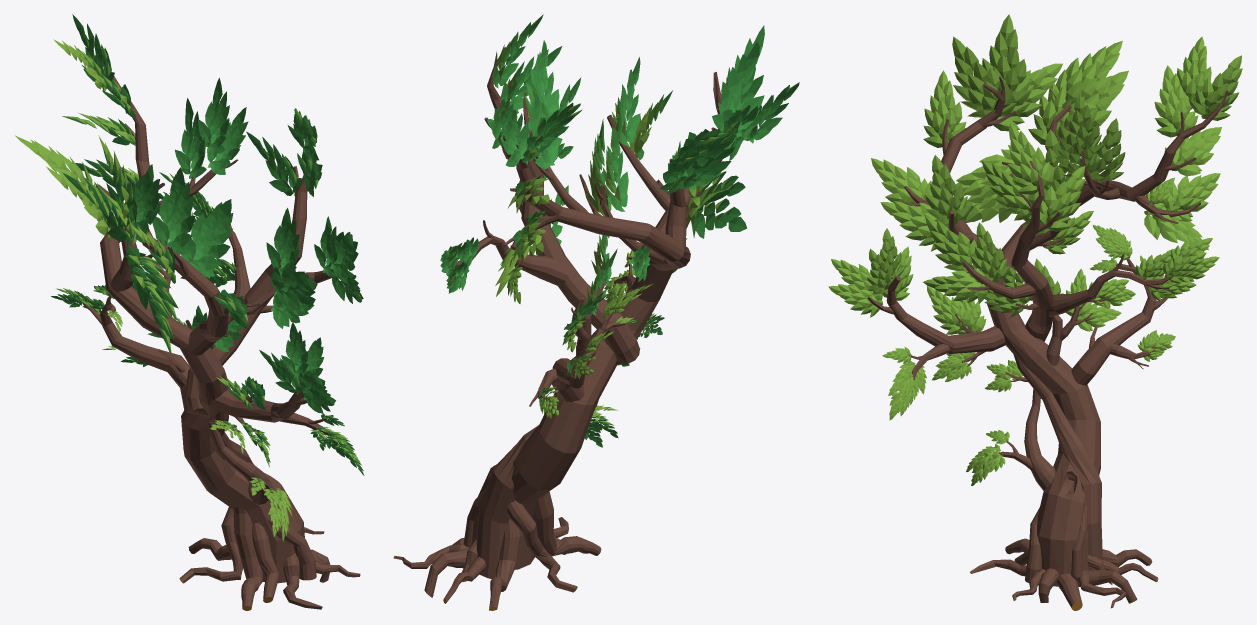
The model's file is modelDraco.gltf.
The picture shows the model from 3 angles, left to right: view 1: azimuth 30°, elevation 25°; view 2: azimuth 150°, elevation 25°; view 3: azimuth 270°, elevation 25°; orthographic projection. The views are drawn at different scales.
Visible parts, largest first — view 1: node_MeshObject1580686336-PolyPaper20, node_MeshObject-425964544-PolyPaper9, node_MeshObject718193664-PolyPaper9, node_MeshObject-2142201856-PolyPaper9, node_MeshObject146114560-PolyPaper9, node_MeshObject-524814336-PolyPaper9, node_MeshObject-998043648-PolyPaper9, node_MeshObject-1096893440-PolyPaper9, node_MeshObject1290272768-PolyPaper9, node_MeshObject-1570122752-PolyPaper9, node_MeshObject47264768-PolyPaper9; view 2: node_MeshObject1580686336-PolyPaper20, node_MeshObject146114560-PolyPaper9, node_MeshObject-425964544-PolyPaper9, node_MeshObject718193664-PolyPaper9, node_MeshObject-2142201856-PolyPaper9, node_MeshObject1290272768-PolyPaper9, node_MeshObject-524814336-PolyPaper9, node_MeshObject-1096893440-PolyPaper9, node_MeshObject47264768-PolyPaper9; view 3: node_MeshObject1580686336-PolyPaper20, node_MeshObject-425964544-PolyPaper9, node_MeshObject718193664-PolyPaper9, node_MeshObject146114560-PolyPaper9, node_MeshObject-2142201856-PolyPaper9, node_MeshObject1290272768-PolyPaper9, node_MeshObject-998043648-PolyPaper9, node_MeshObject-1096893440-PolyPaper9, node_MeshObject47264768-PolyPaper9, node_MeshObject-524814336-PolyPaper9, node_MeshObject-1570122752-PolyPaper9, node_MeshObject619343872-PolyPaper9.
Boxes of the visible parts, x1,y1,x2,y2 form: node_MeshObject1580686336-PolyPaper20: [51, 47, 360, 610]; node_MeshObject-425964544-PolyPaper9: [83, 135, 326, 402]; node_MeshObject718193664-PolyPaper9: [62, 14, 322, 212]; node_MeshObject-2142201856-PolyPaper9: [99, 170, 354, 541]; node_MeshObject146114560-PolyPaper9: [15, 108, 336, 355]; node_MeshObject-524814336-PolyPaper9: [76, 167, 363, 364]; node_MeshObject-998043648-PolyPaper9: [216, 322, 335, 467]; node_MeshObject-1096893440-PolyPaper9: [148, 232, 357, 351]; node_MeshObject1290272768-PolyPaper9: [53, 39, 250, 297]; node_MeshObject-1570122752-PolyPaper9: [241, 414, 364, 475]; node_MeshObject47264768-PolyPaper9: [56, 47, 298, 431]; node_MeshObject1580686336-PolyPaper20: [393, 94, 690, 610]; node_MeshObject146114560-PolyPaper9: [492, 14, 758, 248]; node_MeshObject-425964544-PolyPaper9: [607, 25, 799, 233]; node_MeshObject718193664-PolyPaper9: [487, 40, 588, 213]; node_MeshObject-2142201856-PolyPaper9: [487, 47, 669, 447]; node_MeshObject1290272768-PolyPaper9: [440, 102, 580, 296]; node_MeshObject-524814336-PolyPaper9: [542, 77, 639, 413]; node_MeshObject-1096893440-PolyPaper9: [501, 84, 617, 406]; node_MeshObject47264768-PolyPaper9: [484, 77, 721, 418]; node_MeshObject1580686336-PolyPaper20: [902, 92, 1239, 610]; node_MeshObject-425964544-PolyPaper9: [831, 14, 1047, 293]; node_MeshObject718193664-PolyPaper9: [981, 55, 1242, 231]; node_MeshObject146114560-PolyPaper9: [955, 40, 1128, 282]; node_MeshObject-2142201856-PolyPaper9: [886, 161, 1156, 485]; node_MeshObject1290272768-PolyPaper9: [1048, 36, 1220, 316]; node_MeshObject-998043648-PolyPaper9: [828, 228, 986, 381]; node_MeshObject-1096893440-PolyPaper9: [930, 230, 1198, 349]; node_MeshObject47264768-PolyPaper9: [904, 76, 1227, 366]; node_MeshObject-524814336-PolyPaper9: [923, 129, 1166, 359]; node_MeshObject-1570122752-PolyPaper9: [882, 346, 975, 420]; node_MeshObject619343872-PolyPaper9: [1095, 177, 1174, 346].
Bounding box in the file's own units: 1.43 × 2.38 × 1.83.
